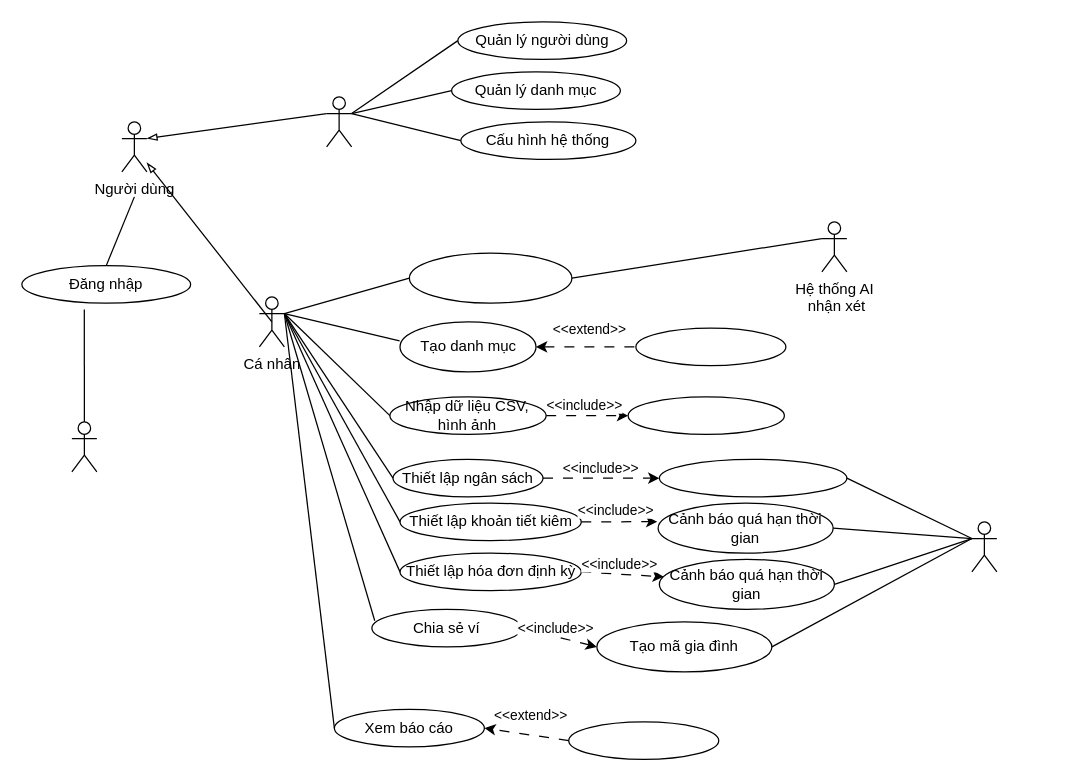
This 1071x781 diagram has some shape labels left out. The centre of each missing label's shape, as x and y in pixels:
"Admin" belongs at pixel 338 121.
"Cảnh báo vượt ngân sách" belongs at pixel 752 477.
"Google" belongs at pixel 84 446.
"Hệ thống thông báo" belongs at pixel 984 546.
"Phân loại tự động" belongs at pixel 705 415.
"Theo dõi, quản lý giao dịch" belongs at pixel 490 277.
"Tạo rule cho danh mục" belongs at pixel 710 346.
"Xuất báo cáo" belongs at pixel 643 740.
